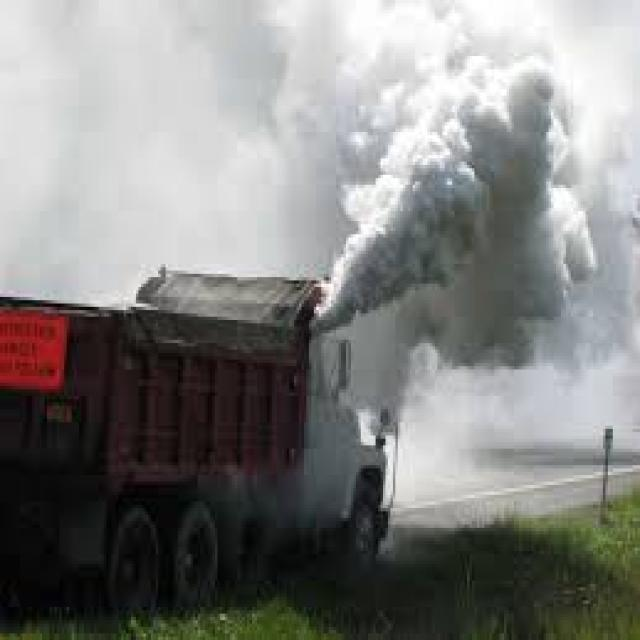Smoke: (304, 23, 638, 373)
